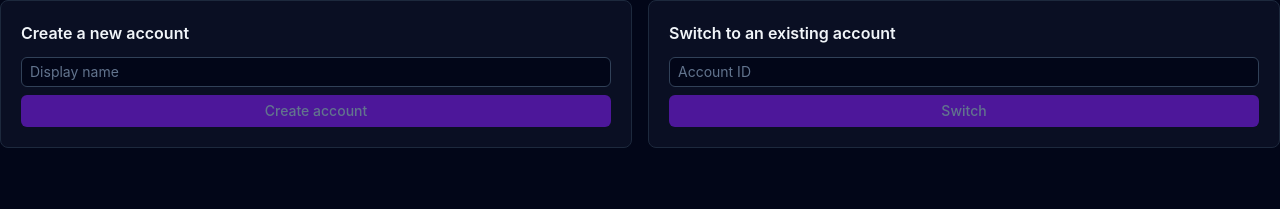
Test: MyAccountPage › shows the create error inline without adopting an account id
The image size is (1280, 209).
Expected: the heading "Create a new account" is shown, x1=21 y1=23 x2=189 y2=43
In the field with placeholder "Display name": (316, 72) x1=21 y1=57 x2=611 y2=87, type "carl"
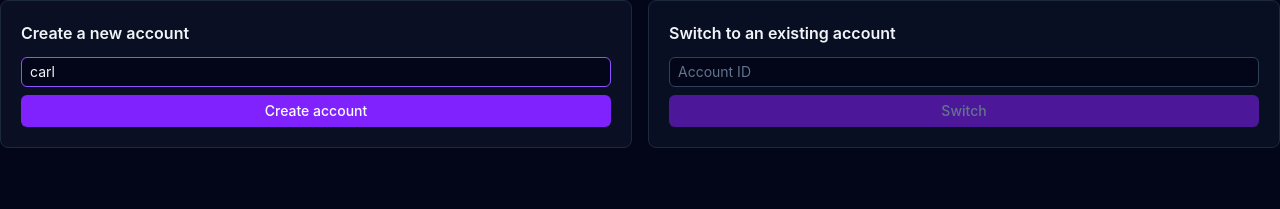
Click the button "Create account": (316, 111) x1=21 y1=95 x2=611 y2=127
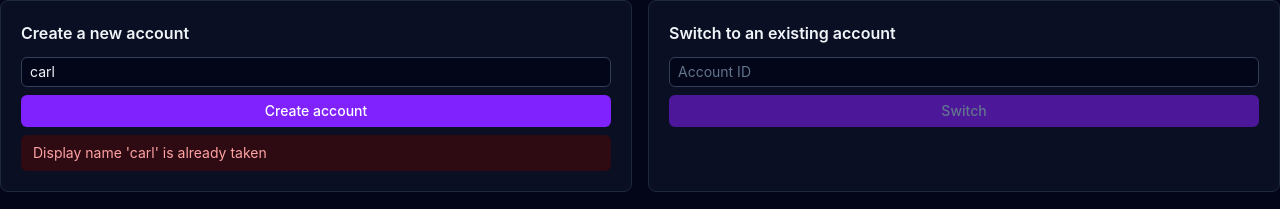
Expected: the text "Display name 'carl' is already taken" is shown, x1=21 y1=135 x2=611 y2=171
